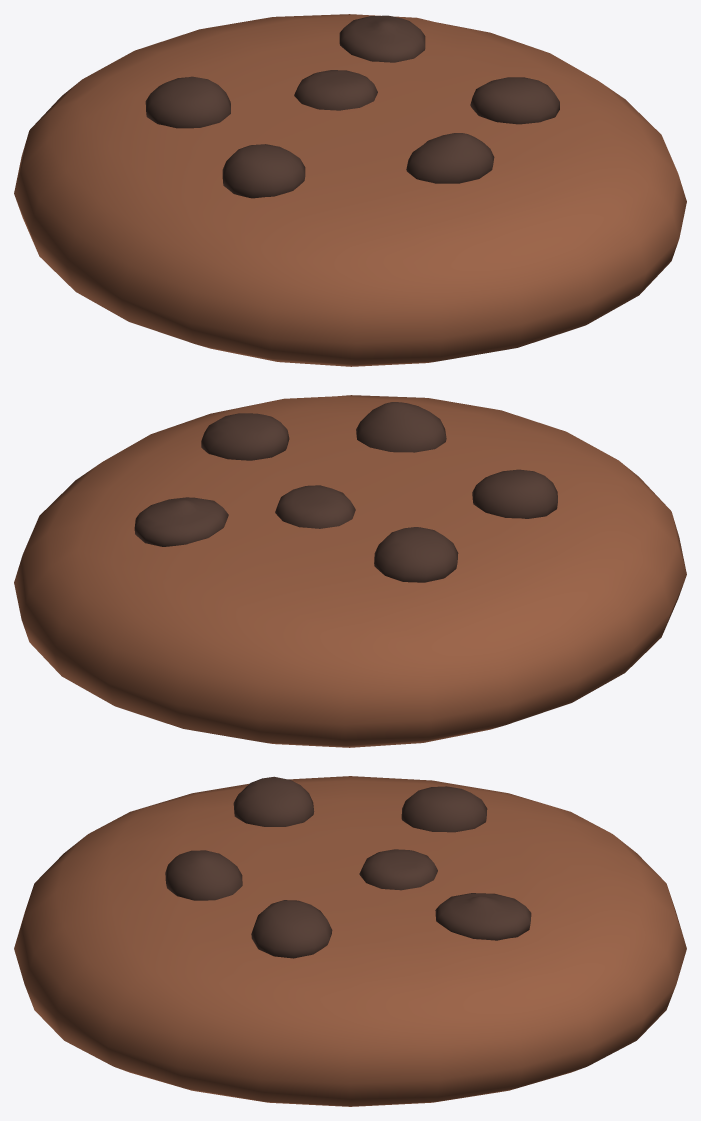
File: CookieChoc_02.fbx
3 views of the same model, one above another, from view 1: azimuth 30°, elevation 25°; view 2: azimuth 150°, elevation 25°; view 3: azimuth 270°, elevation 25° (orthographic). The views are drawn at different scales.
Visible parts, largest first — view 1: CookieChoc_02_LOD0; view 2: CookieChoc_02_LOD0; view 3: CookieChoc_02_LOD0.
Boxes of the visible parts, x1,y1,x2,y2 form: CookieChoc_02_LOD0: (14,14,686,366); CookieChoc_02_LOD0: (14,395,686,747); CookieChoc_02_LOD0: (14,776,686,1106).
Size of what is drawn, in the model's own units: 468 by 126 by 493.
